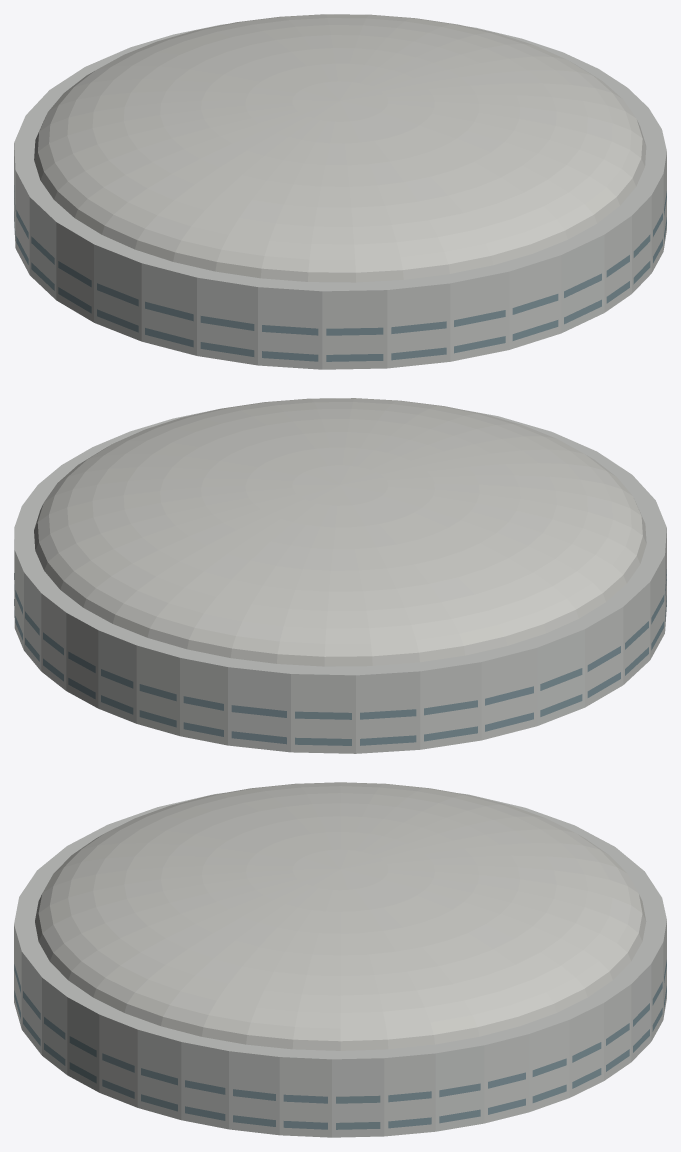
The model's file is landmark-38de2512-6752-41da-9813-9010341fd73e.glb.
The picture shows the model from 3 angles, top to bottom: view 1: azimuth 30°, elevation 25°; view 2: azimuth 150°, elevation 25°; view 3: azimuth 270°, elevation 25°; orthographic projection.
Parts seen in each view (by area): view 1: landmark-38de2512-6752-41da-9813-9010341fd73e; view 2: landmark-38de2512-6752-41da-9813-9010341fd73e; view 3: landmark-38de2512-6752-41da-9813-9010341fd73e.
Boxes of the visible parts, x1=… form: landmark-38de2512-6752-41da-9813-9010341fd73e: x1=14, y1=14, x2=666, y2=369; landmark-38de2512-6752-41da-9813-9010341fd73e: x1=14, y1=398, x2=666, y2=753; landmark-38de2512-6752-41da-9813-9010341fd73e: x1=14, y1=782, x2=666, y2=1137.
Bounding box in the file's own units: 136 × 30 × 136.
